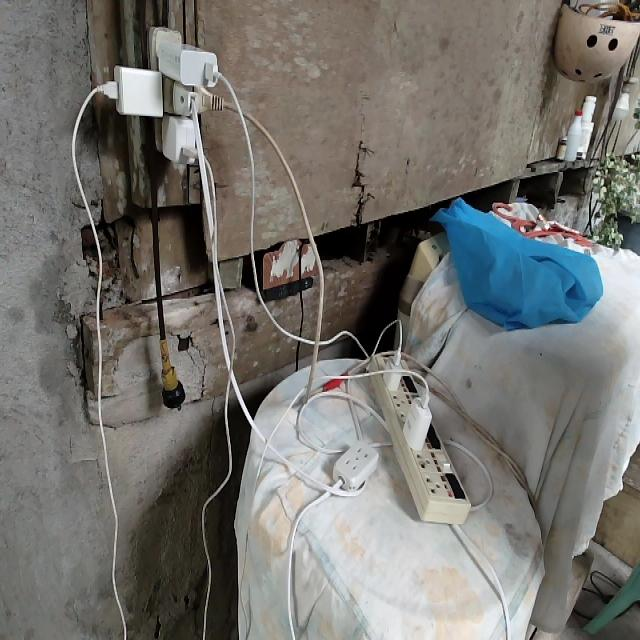-: (95, 18, 233, 166)
